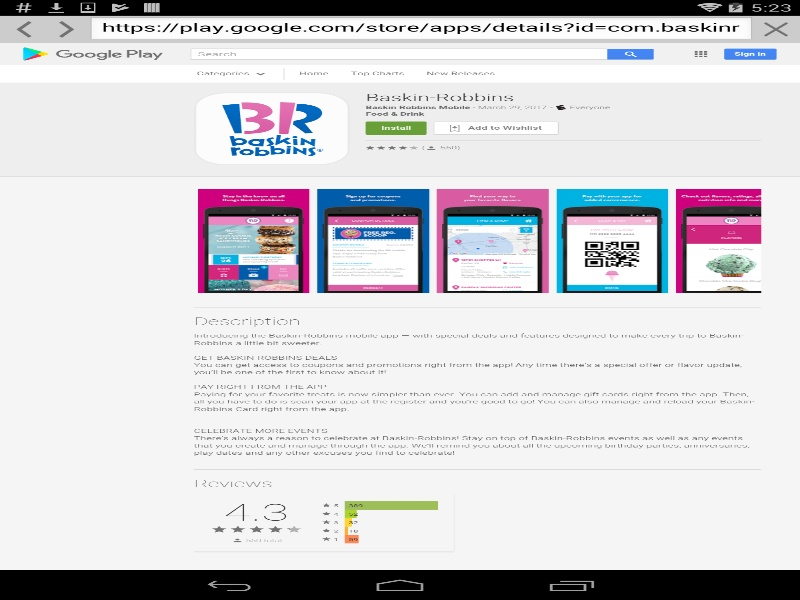Button: (2, 16, 45, 41), (45, 16, 88, 41), (754, 16, 797, 41)
Input: (88, 16, 754, 41)
